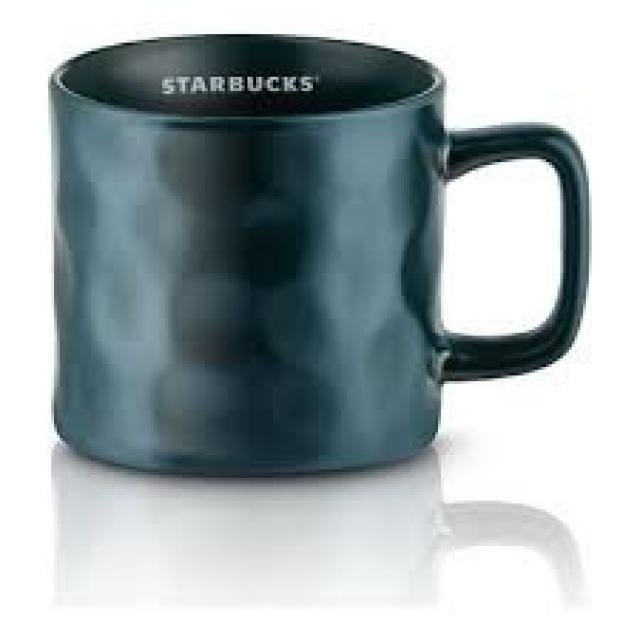taza: (47, 33, 593, 480)
